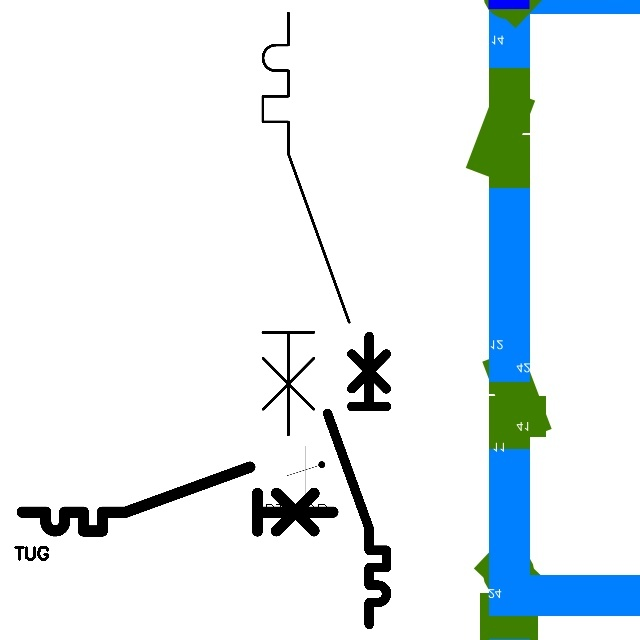interruptor_termomagnetico: (252, 2, 360, 445), (14, 459, 341, 539), (320, 329, 394, 632)
